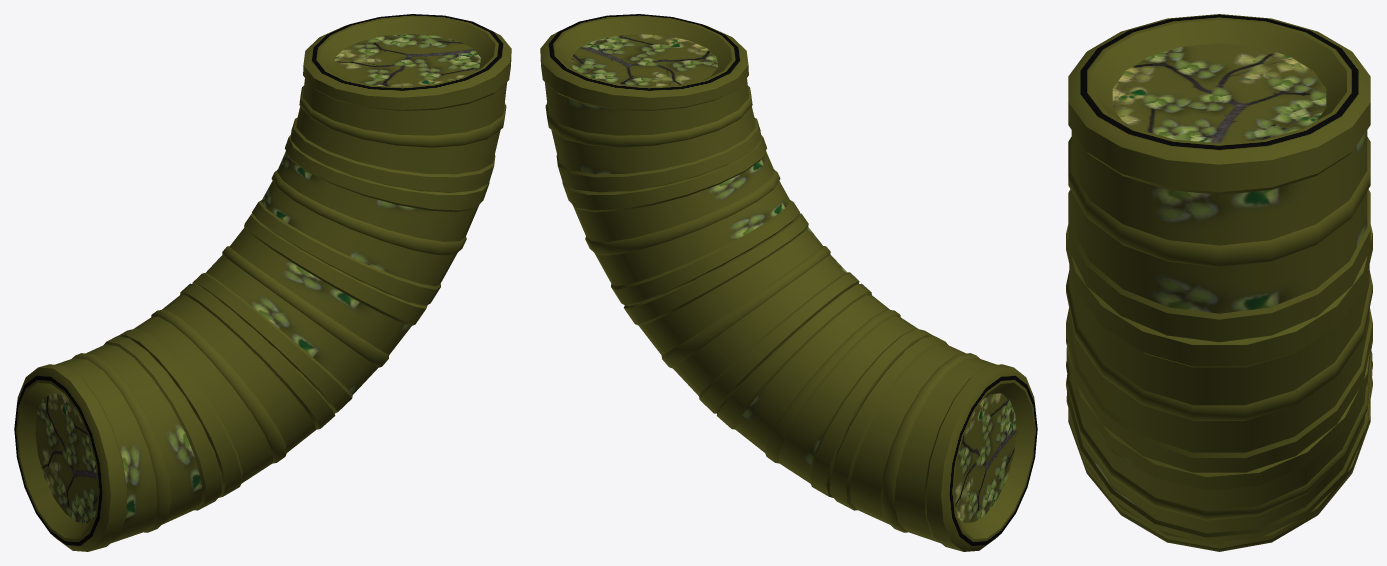
File: pipe_a_90m.FBX
3 views of the same model, side by side, from view 1: azimuth 30°, elevation 25°; view 2: azimuth 150°, elevation 25°; view 3: azimuth 270°, elevation 25° (orthographic). The views are drawn at different scales.
Visible parts, largest first — view 1: pipe_a_90m; view 2: pipe_a_90m; view 3: pipe_a_90m.
Part boxes in pixels (x1,y1,x2,y2): pipe_a_90m: [14, 14, 511, 551]; pipe_a_90m: [540, 14, 1037, 551]; pipe_a_90m: [1066, 14, 1372, 551].
Size of the model in its own units: 3.56 by 1.33 by 3.14.
